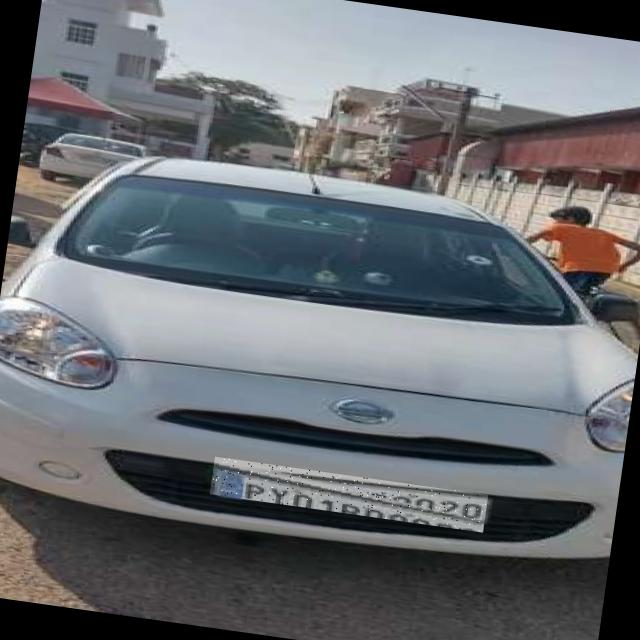Plate: (211, 458, 490, 534)
